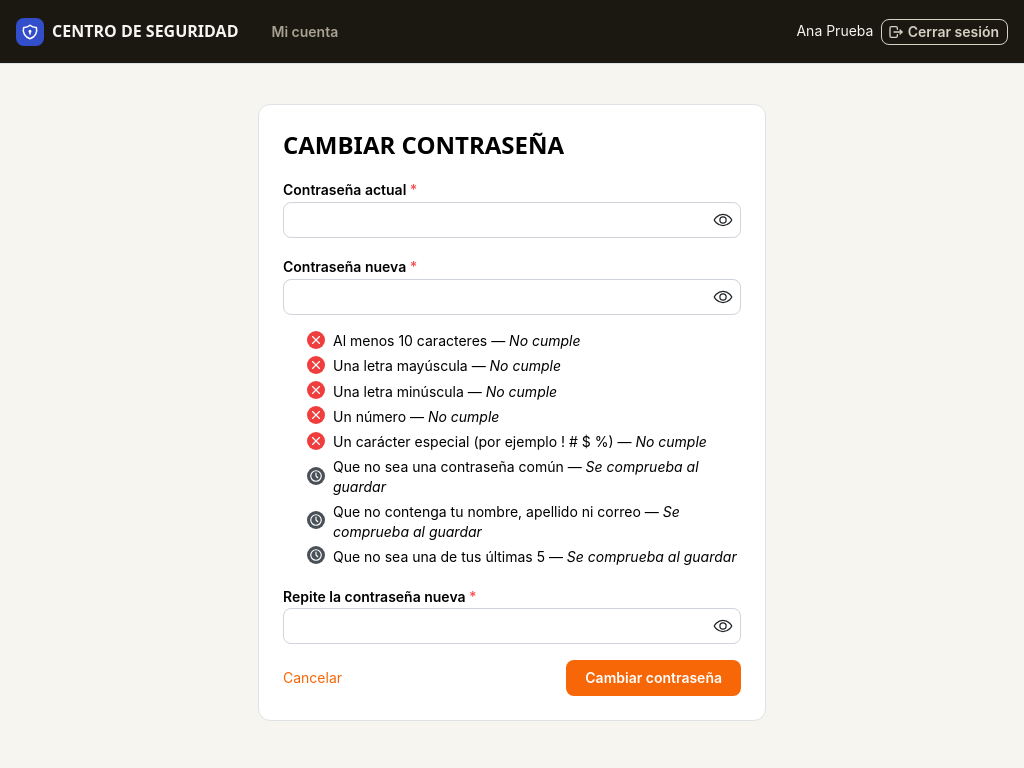
Scenario: FRONT-10 cambio de contraseña › éxito vuelve a Mi cuenta con la sesión abierta
Type "Actual-2026!" into the password field labelled "Contraseña actual *" at (512, 220), box [284,203,740,237]
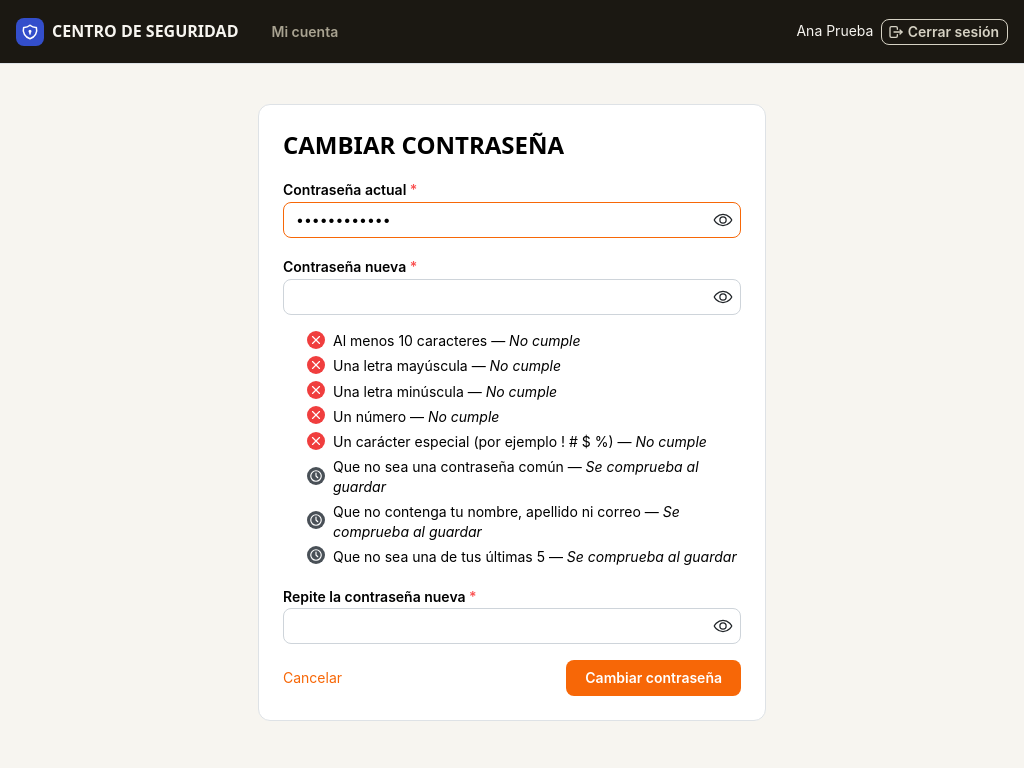
Type "Nueva-Segura-2026!" into the password field labelled "Contraseña nueva *" at (512, 297), box [284,280,740,314]
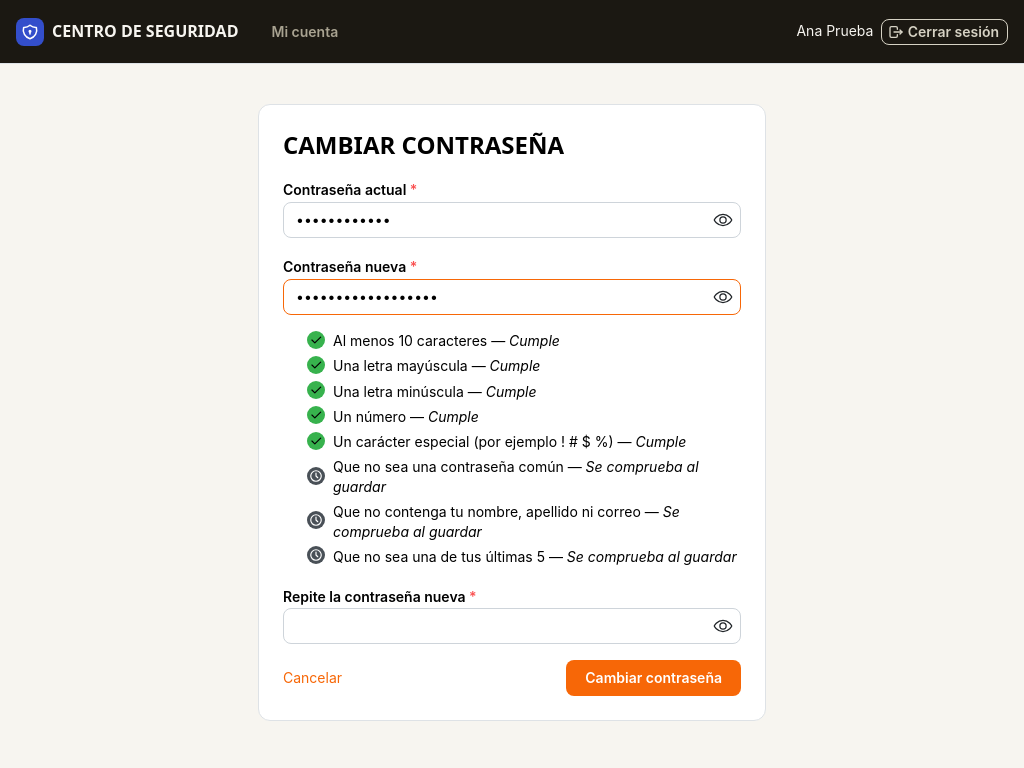
Type "Nueva-Segura-2026!" into the password field labelled "Repite la contraseña nueva *" at (512, 626), box [284,609,740,643]
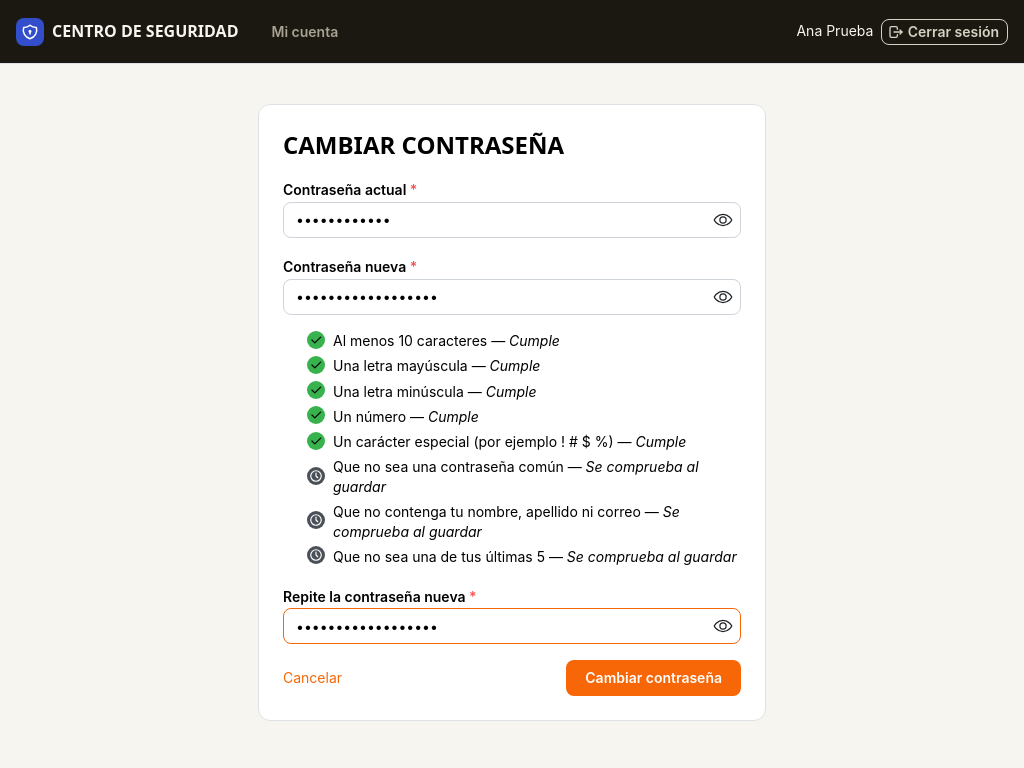
Click the button "Cambiar contraseña" at (654, 678), box [566,660,741,696]
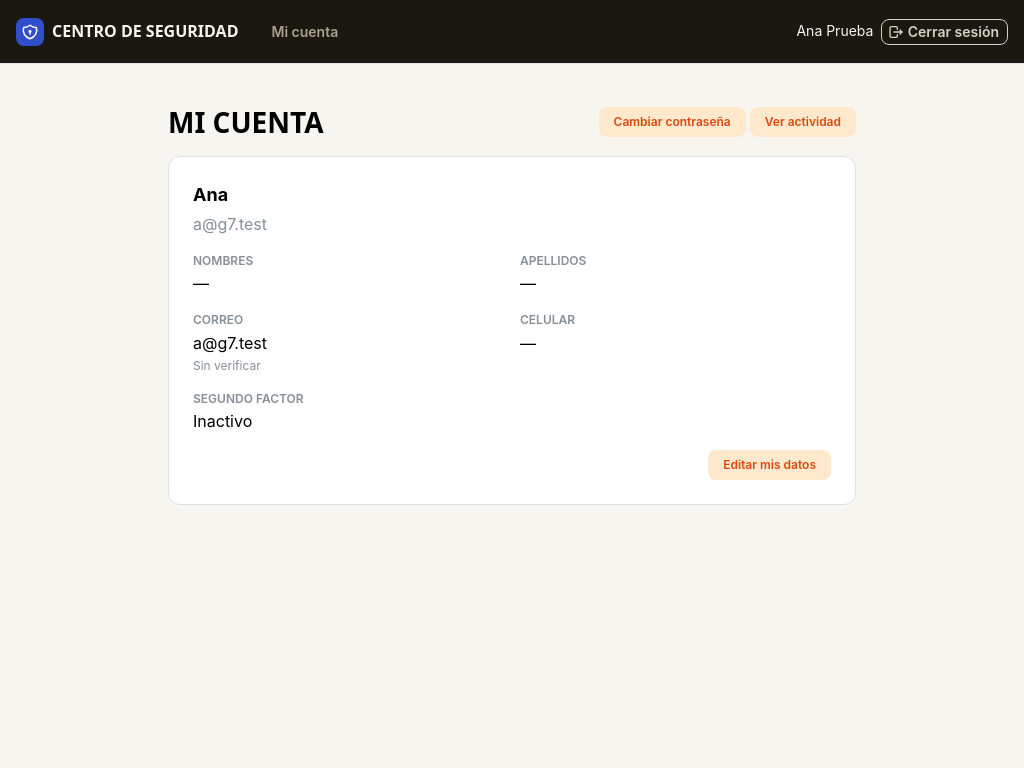
Expected: the heading "Mi cuenta" is shown, [168,104,324,140]
